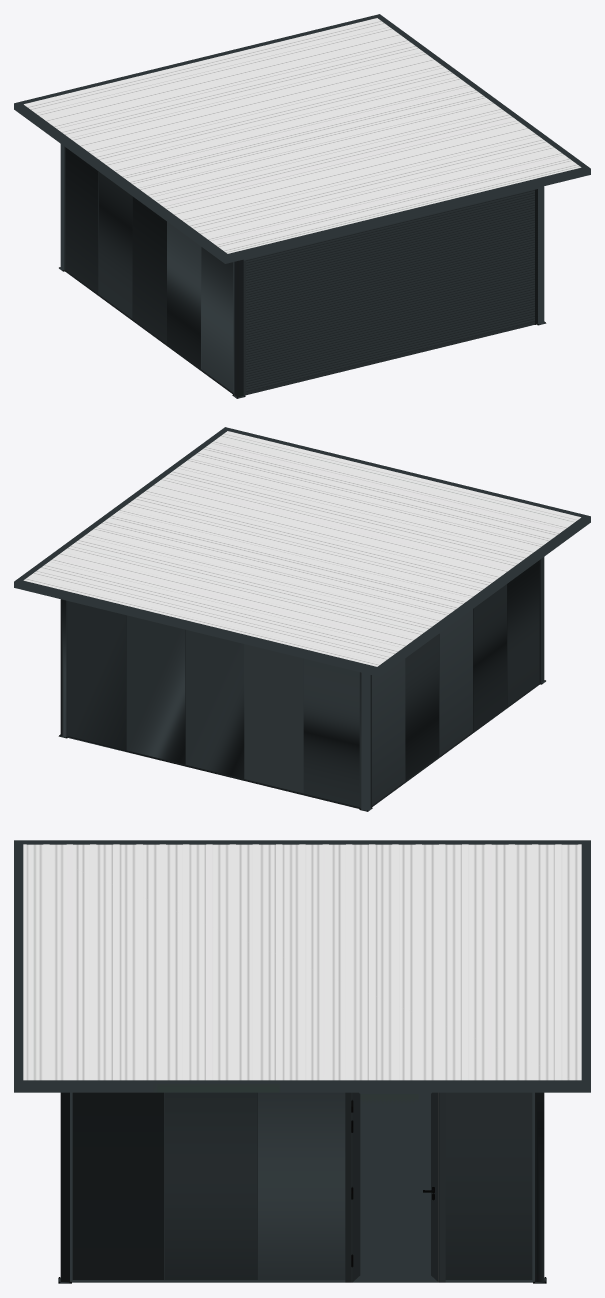
The picture shows the model from 3 angles, top to bottom: view 1: azimuth 30°, elevation 25°; view 2: azimuth 150°, elevation 25°; view 3: azimuth 270°, elevation 25°; orthographic projection. The views are drawn at different scales.
Parts seen in each view (by area): view 1: priximbattable_net_abris_de_voiture_640017_garage_toit_plat_, lame_15, lame_13, lame_12, lame_11, lame_10, lame_9, lame_8, lame_7, lame_6, lame_5, lame_4 (+9 smaller); view 2: priximbattable_net_abris_de_voiture_640017_garage_toit_plat_; view 3: priximbattable_net_abris_de_voiture_640017_garage_toit_plat_, folha, porta.
Part boxes in pixels (box(x1,y1,x2,y2)): priximbattable_net_abris_de_voiture_640017_garage_toit_plat_: box(14, 14, 590, 398); lame_15: box(246, 196, 534, 273); lame_13: box(246, 210, 534, 288); lame_12: box(246, 218, 534, 295); lame_11: box(246, 225, 534, 303); lame_10: box(246, 233, 534, 310); lame_9: box(246, 240, 534, 317); lame_8: box(246, 247, 534, 325); lame_7: box(246, 255, 534, 332); lame_6: box(246, 262, 534, 340); lame_5: box(246, 270, 534, 347); lame_4: box(246, 277, 534, 354); priximbattable_net_abris_de_voiture_640017_garage_toit_plat_: box(14, 427, 590, 811); priximbattable_net_abris_de_voiture_640017_garage_toit_plat_: box(14, 840, 590, 1283); folha: box(351, 1092, 438, 1282); porta: box(345, 1092, 445, 1282).
Bounding box in the file's own units: 620 × 259 × 620.
1 material, 1 textured.
